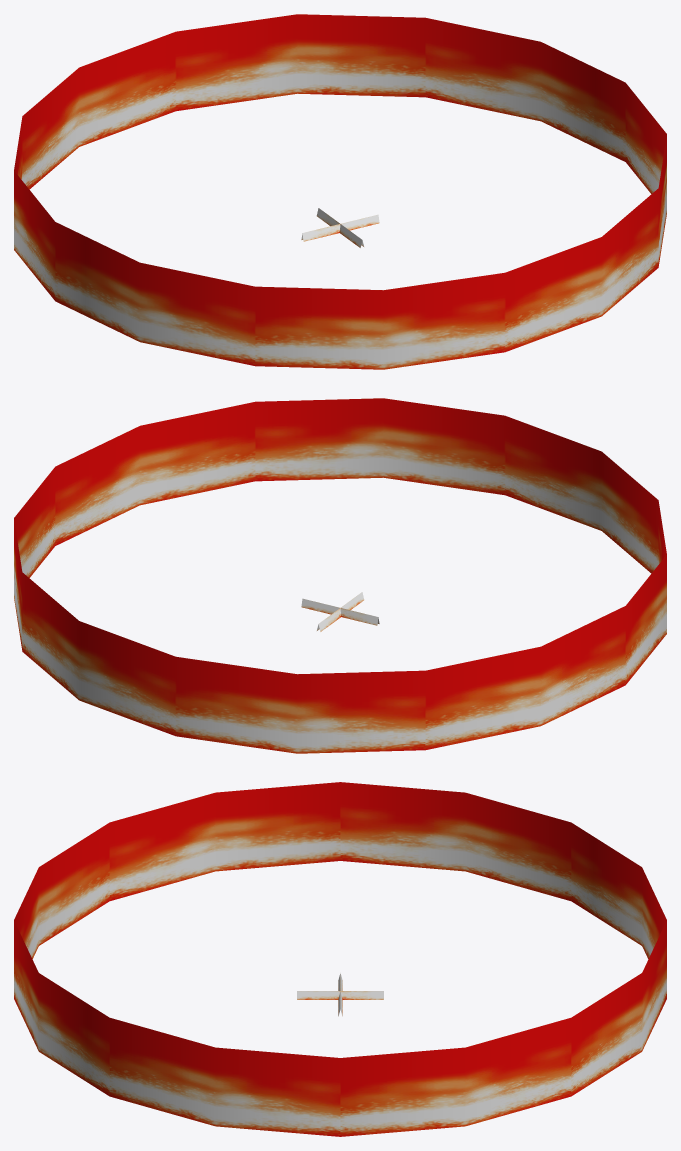
File: godclient_cylinder_15m.fbx
3 views of the same model, one above another, from view 1: azimuth 30°, elevation 25°; view 2: azimuth 150°, elevation 25°; view 3: azimuth 270°, elevation 25° (orthographic).
Visible parts, largest first — view 1: mesh_node; view 2: mesh_node; view 3: mesh_node.
Boxes of the visible parts, x1,y1,x2,y2 form: mesh_node: (14, 14, 666, 369); mesh_node: (14, 398, 666, 753); mesh_node: (14, 782, 666, 1136).
Size of the model in its own units: 15 by 2 by 15.
Materials: 1 (1 with a texture image).
